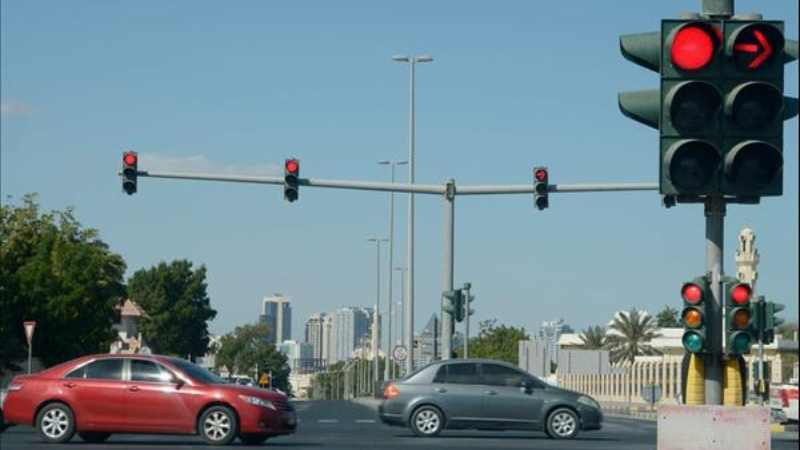red: (657, 17, 786, 197), (679, 280, 708, 354), (725, 279, 753, 353), (119, 149, 137, 195), (533, 166, 549, 211), (284, 157, 299, 203)
